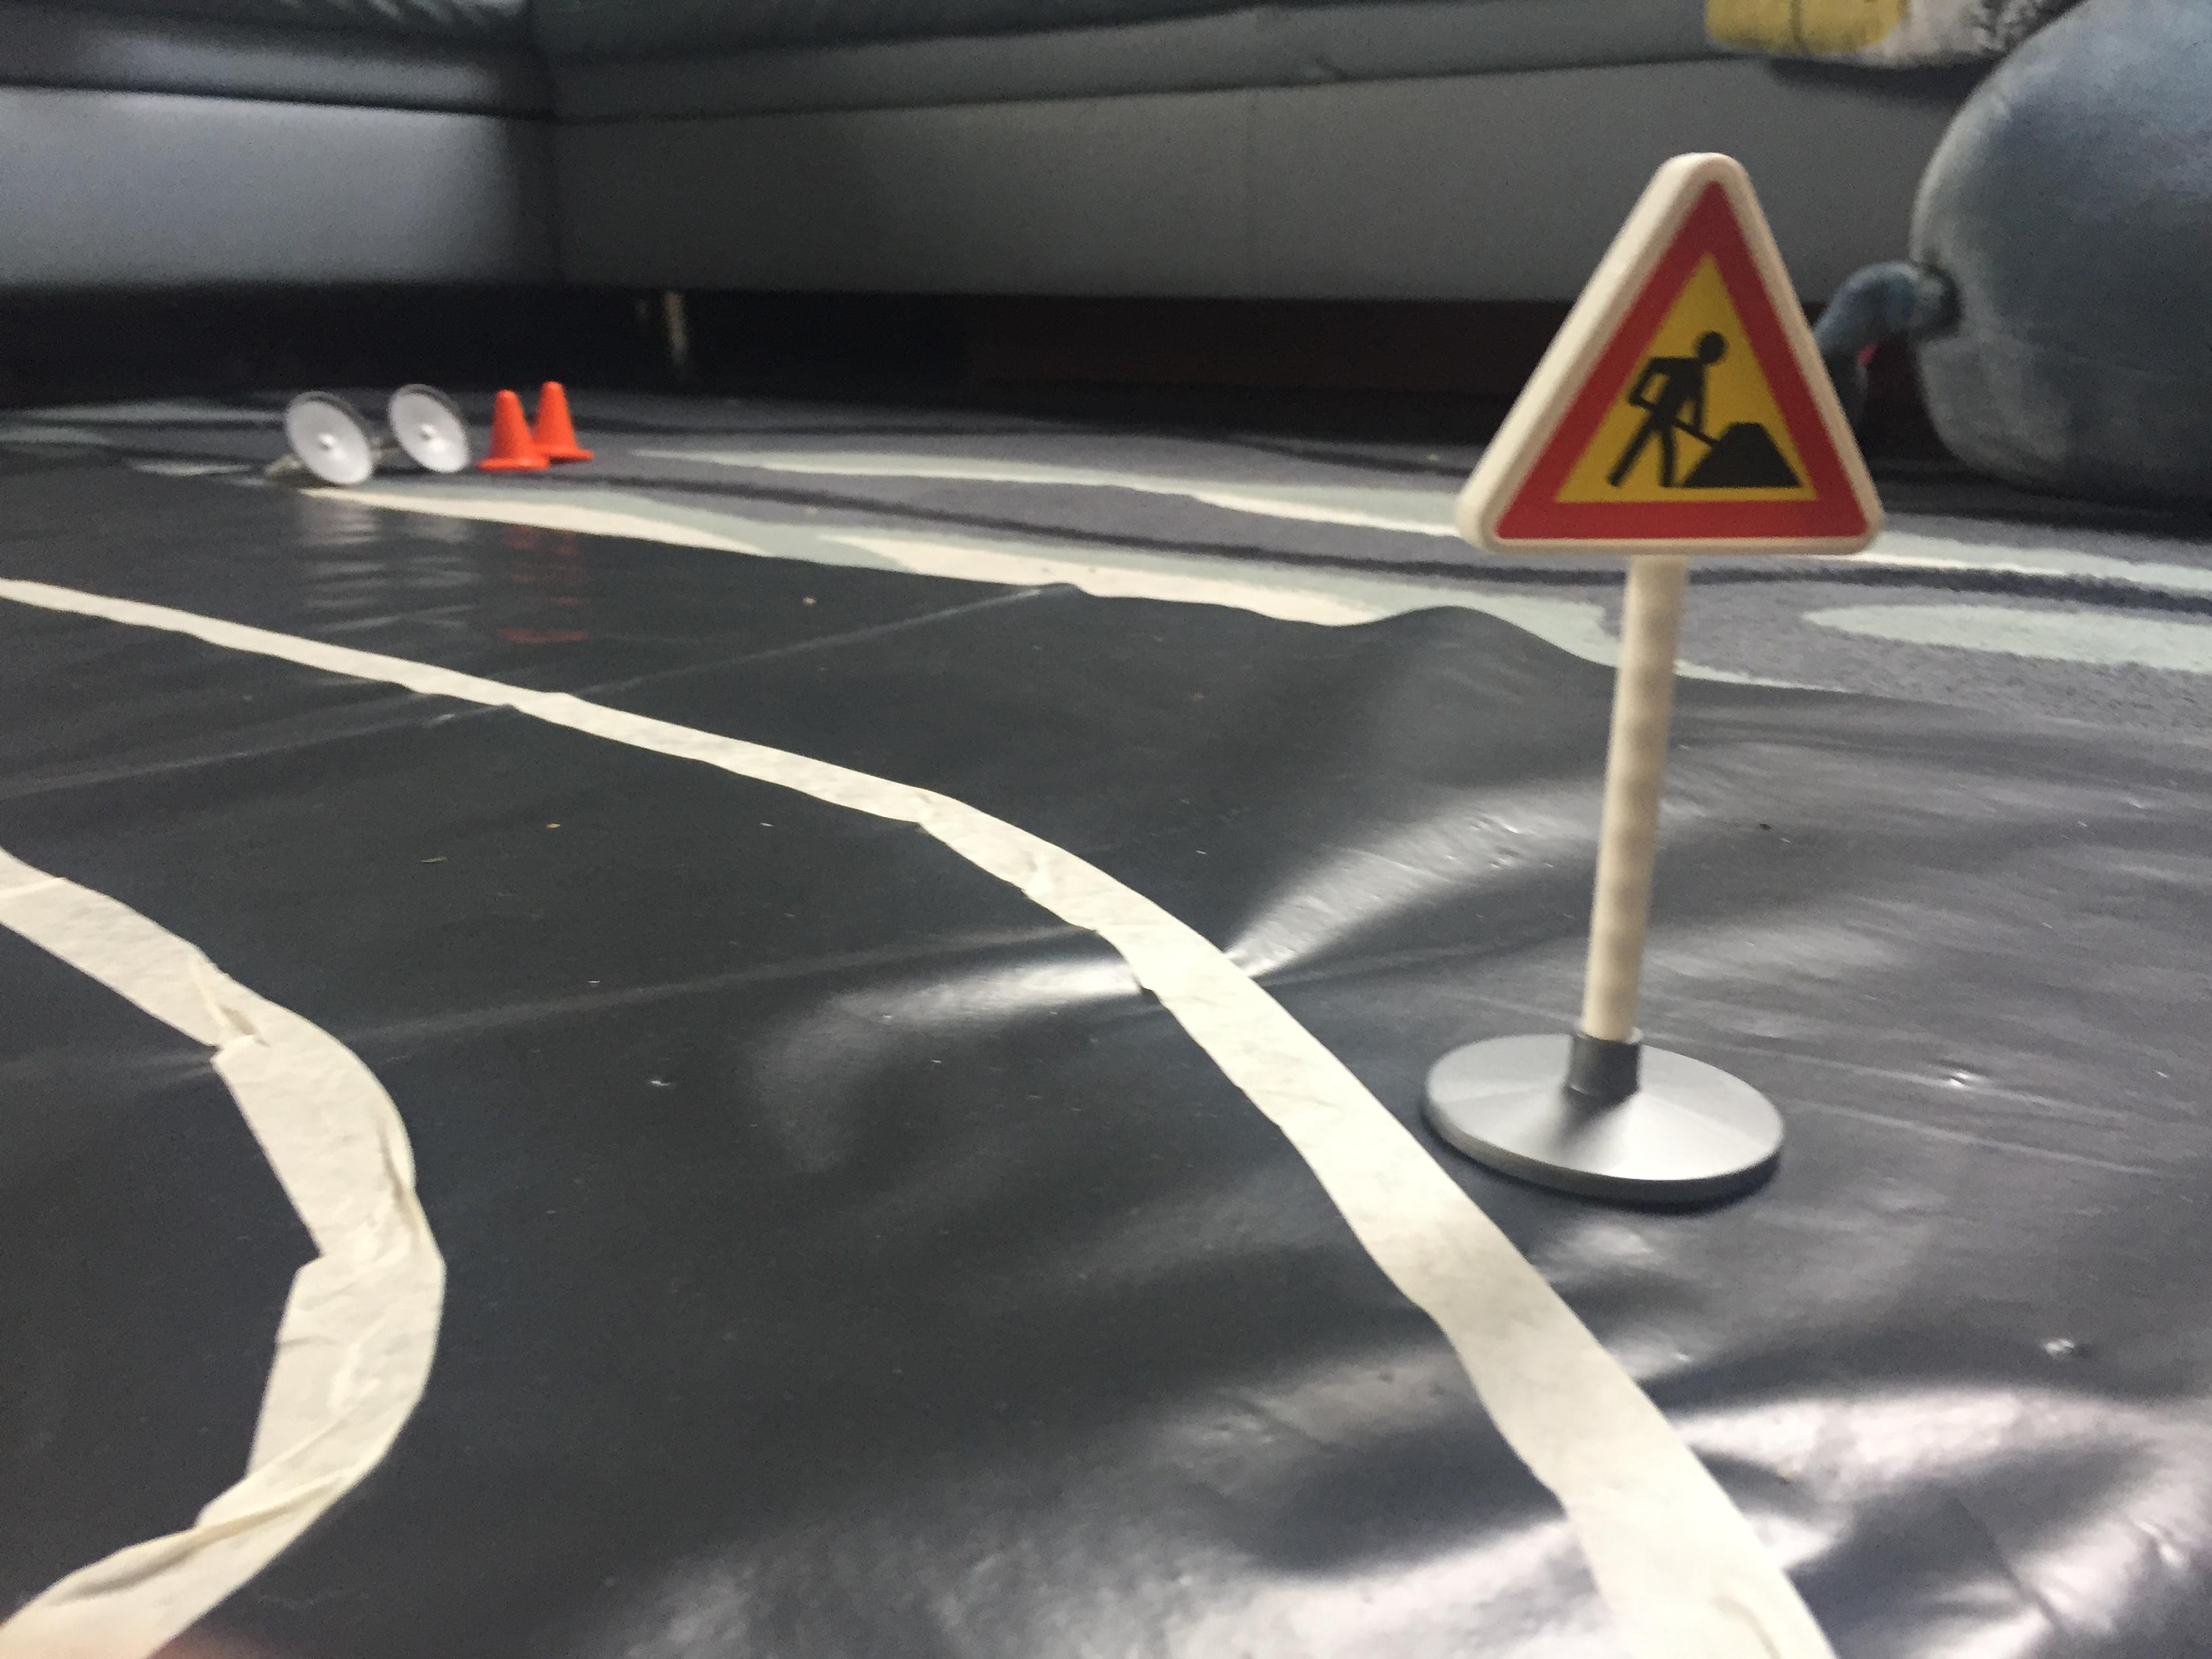work: (1439, 138, 1904, 579)
